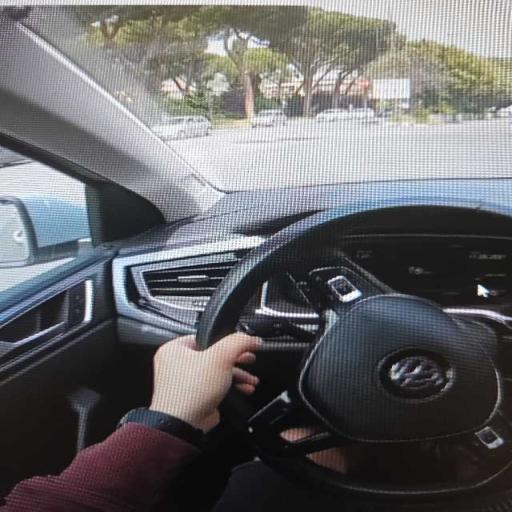car: (0, 2, 511, 511), (152, 116, 212, 140), (252, 110, 287, 127), (316, 109, 349, 122), (349, 108, 375, 120), (496, 105, 512, 118)
lane: (170, 121, 511, 190)
person: (0, 334, 261, 511)
